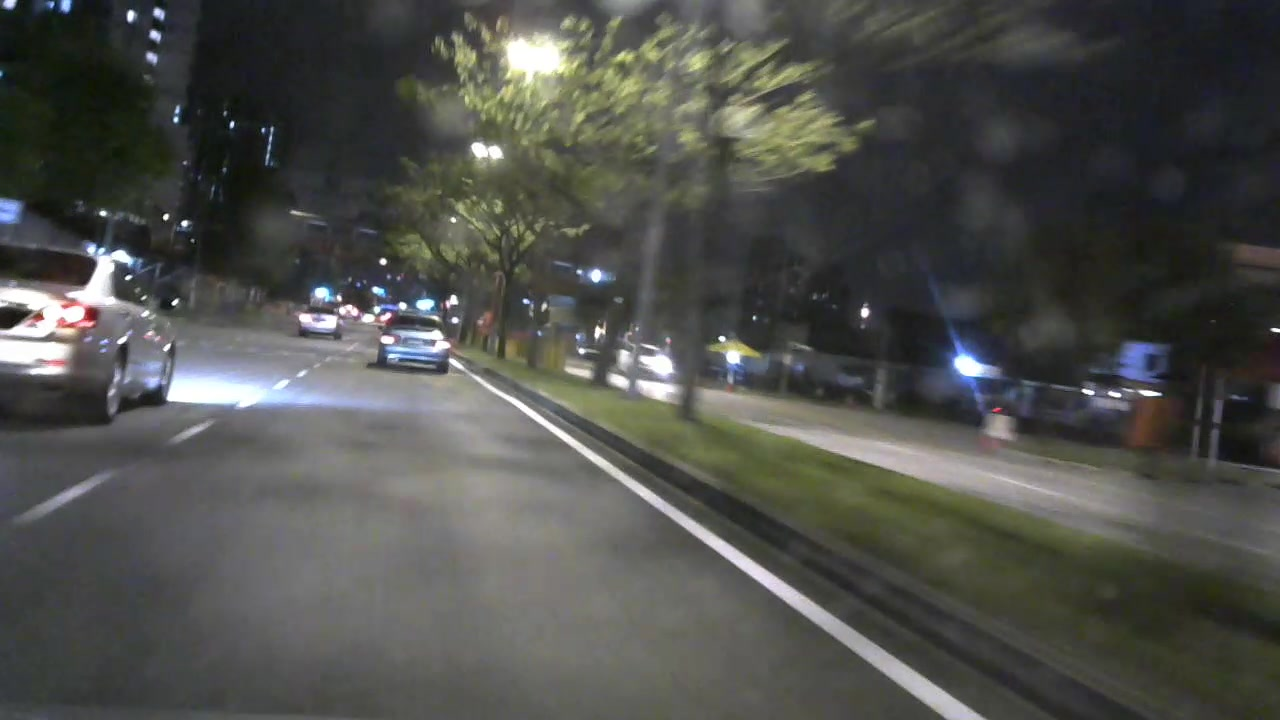Car: (1, 226, 193, 438), (373, 304, 457, 379), (605, 331, 681, 384), (295, 296, 342, 341)
